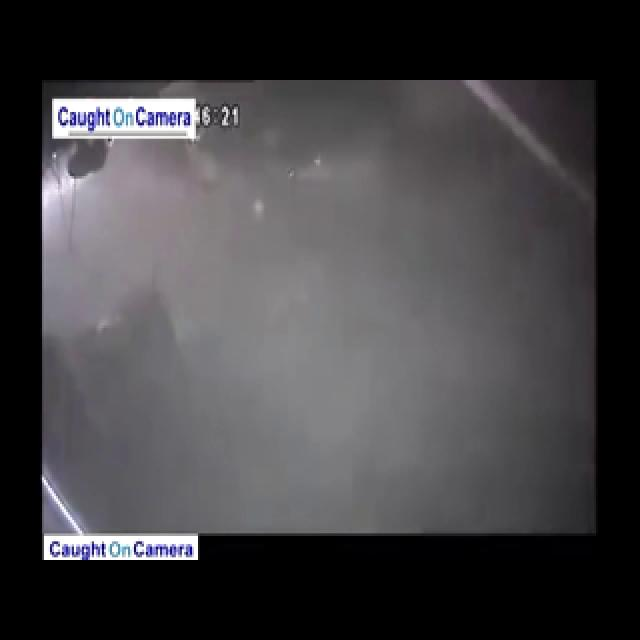explosion: (29, 108, 640, 522)
